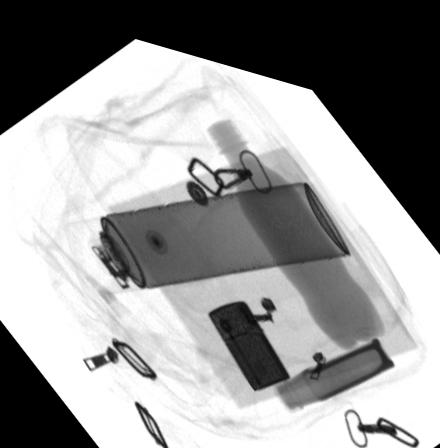Lighter: (206, 287, 290, 375)
Sprayer: (60, 163, 350, 289)
